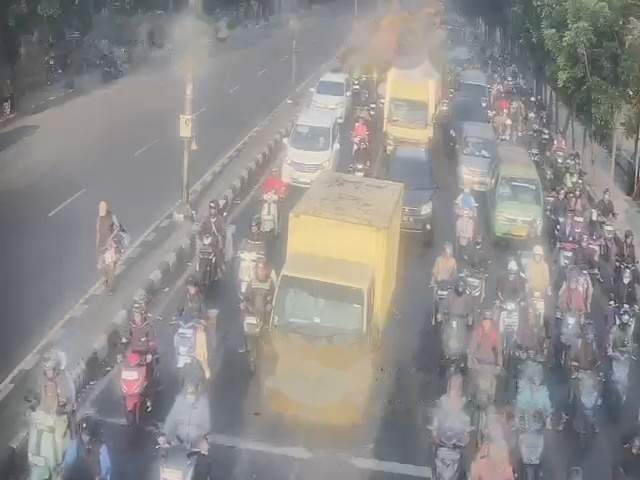Mobil: (282, 99, 338, 184), (494, 148, 540, 240), (386, 143, 435, 220), (448, 126, 490, 188), (310, 63, 350, 111)
Motor: (169, 319, 198, 374), (121, 360, 144, 424), (572, 367, 601, 415), (158, 437, 189, 480), (608, 348, 631, 402), (434, 428, 457, 480), (518, 420, 542, 463), (191, 232, 212, 274), (433, 272, 450, 323), (237, 248, 252, 298), (240, 306, 255, 355), (461, 269, 479, 303), (468, 361, 484, 398), (603, 220, 620, 253), (459, 209, 473, 248), (500, 303, 519, 331), (261, 191, 275, 227), (561, 307, 571, 356), (618, 261, 632, 295), (560, 241, 574, 273), (571, 209, 581, 239), (551, 212, 560, 237)
Truk: (273, 172, 405, 414), (380, 70, 432, 151)
